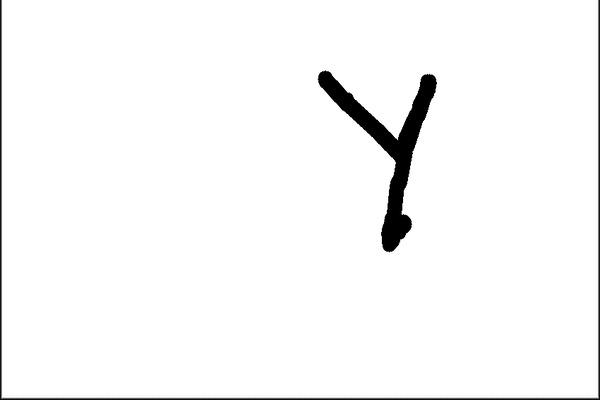Y: (299, 60, 449, 263)
